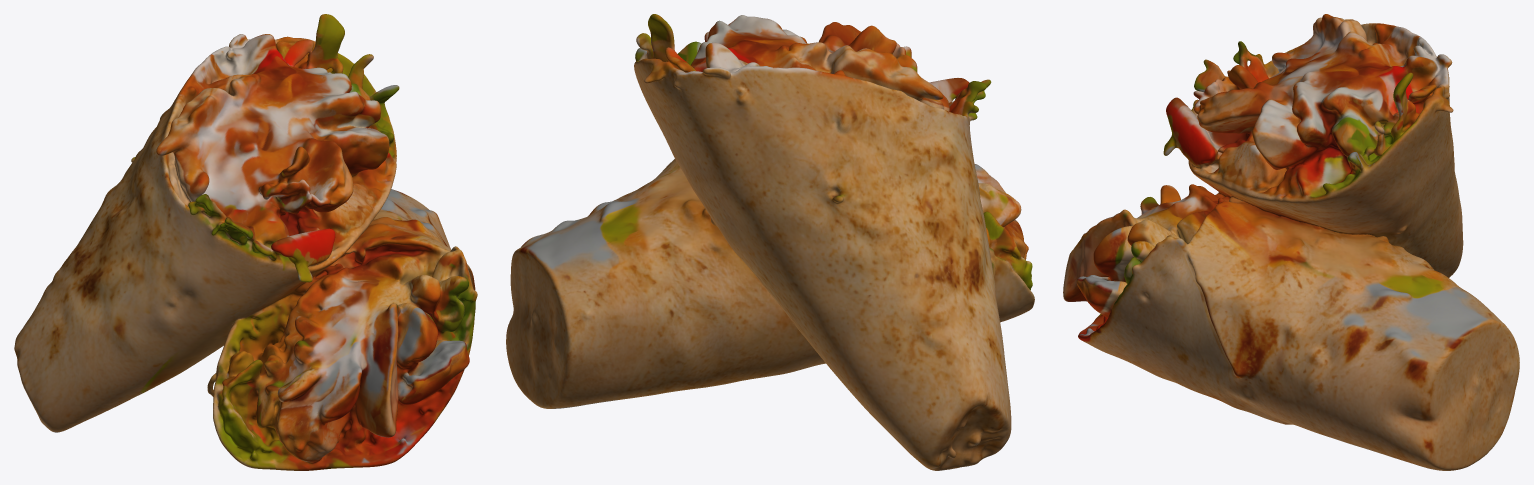
Rendered from makloub.glb.
The picture shows the model from 3 angles, left to right: view 1: azimuth 30°, elevation 25°; view 2: azimuth 150°, elevation 25°; view 3: azimuth 270°, elevation 25°; orthographic projection. The views are drawn at different scales.
Visible parts, largest first — view 1: tripo_node_660d8ad0-0f32-433b-a9cf-e1c551e0a06e; view 2: tripo_node_660d8ad0-0f32-433b-a9cf-e1c551e0a06e; view 3: tripo_node_660d8ad0-0f32-433b-a9cf-e1c551e0a06e.
Part boxes in pixels (x1,y1,x2,y2): tripo_node_660d8ad0-0f32-433b-a9cf-e1c551e0a06e: (14,14,477,470); tripo_node_660d8ad0-0f32-433b-a9cf-e1c551e0a06e: (506,14,1034,470); tripo_node_660d8ad0-0f32-433b-a9cf-e1c551e0a06e: (1063,14,1519,470).
Bounding box in the file's own units: 1 × 0.7608 × 0.8947.
Materials: 1 (1 with a texture image).
